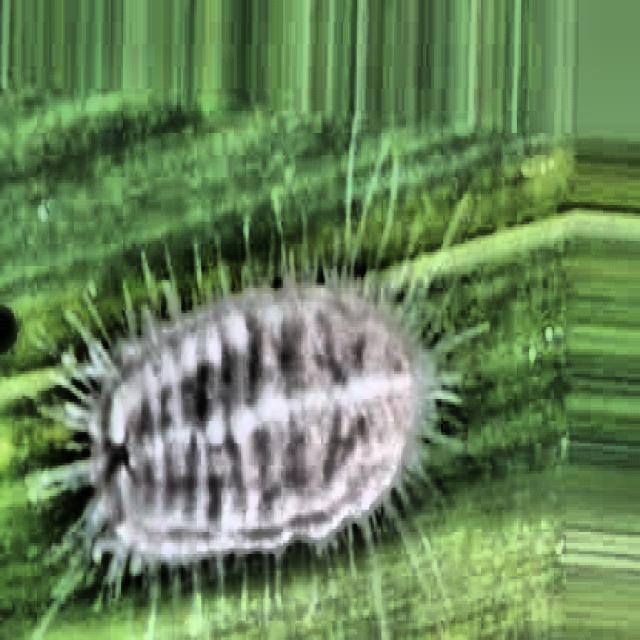Mealy-bug: (53, 167, 484, 640)
